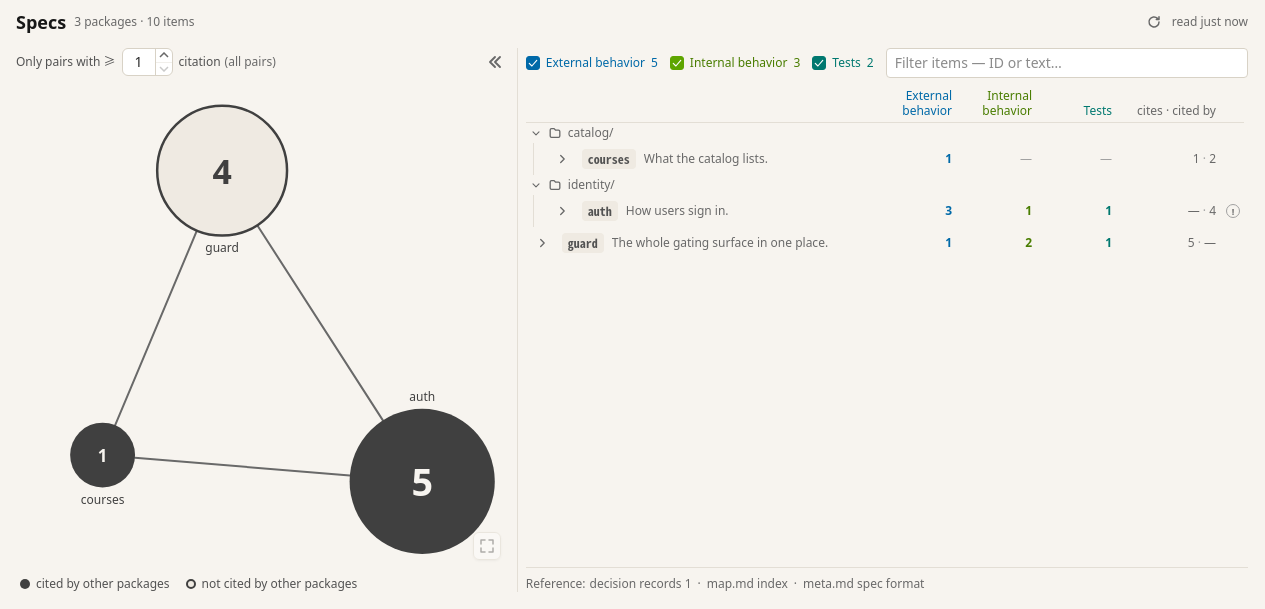
Test case: SPECV-4: group filters › a file emptied by filters says so when expanded
Click the button with test id "filter-external" at [592, 63], box [526, 53, 658, 73]
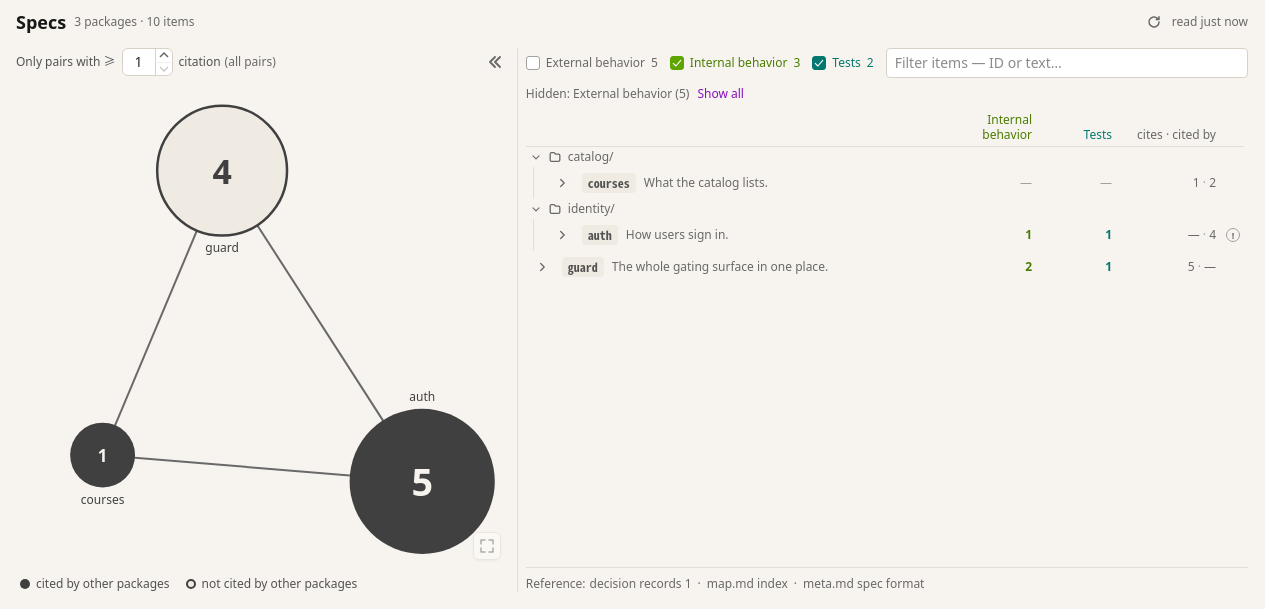
Click the button "courses What the catalog lists." at [767, 183], box [582, 173, 952, 193]
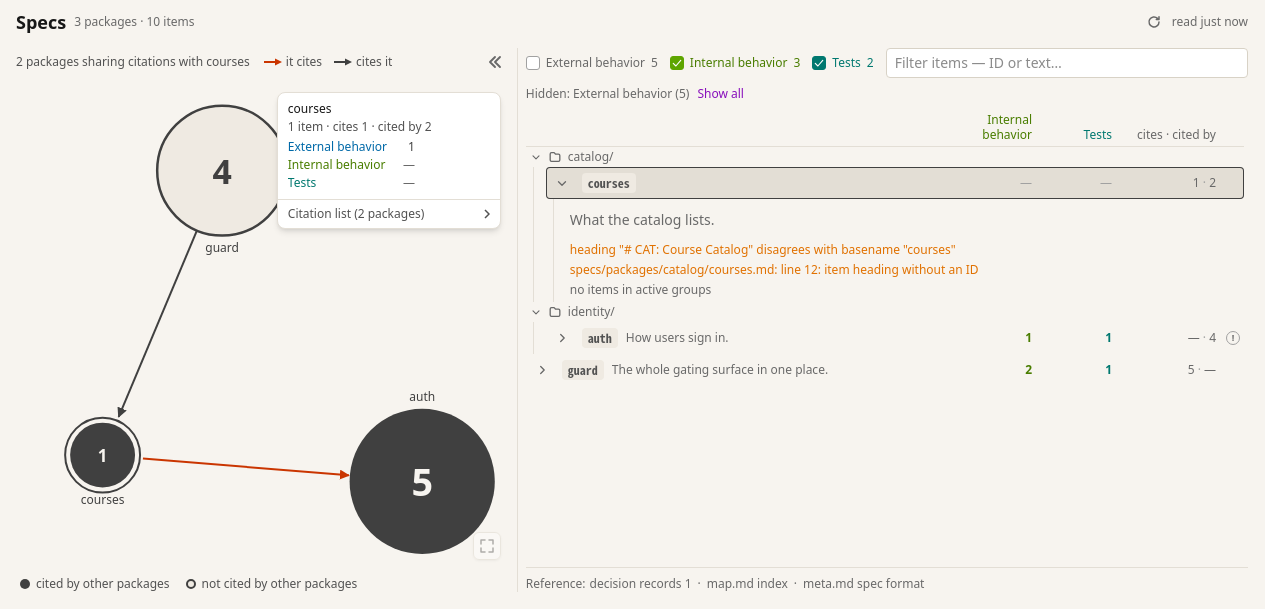
Now the text "no items in active groups" is shown, box [570, 281, 711, 298]
